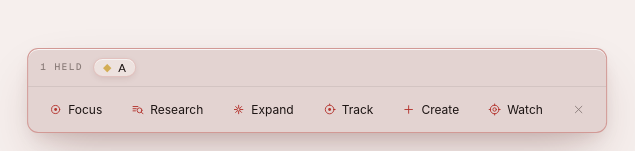
Test case: Create menu is server-driven › offers no styles of its own when the server returns none
The width and height of the screenshot is (635, 151).
Click the button "Create".
click(431, 110)  # box [389, 94, 472, 125]
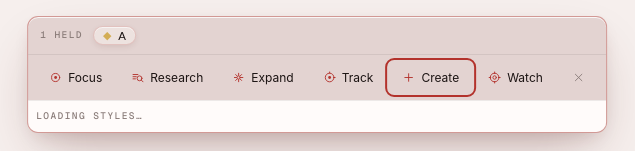
Now the text "Loading styles…" is shown, box [36, 109, 143, 122]
